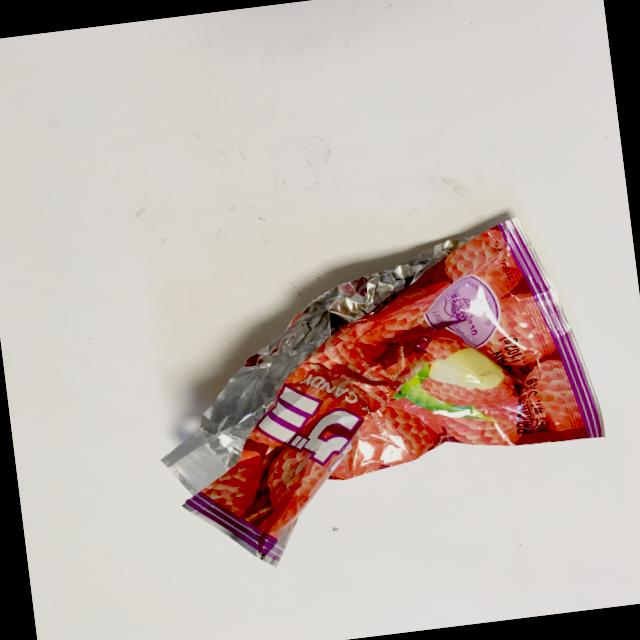Plastic: (115, 147, 626, 578)
